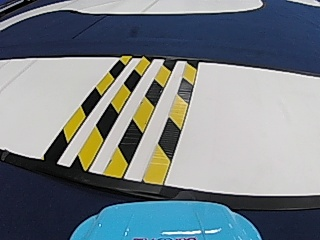bump: (44, 62, 197, 169)
